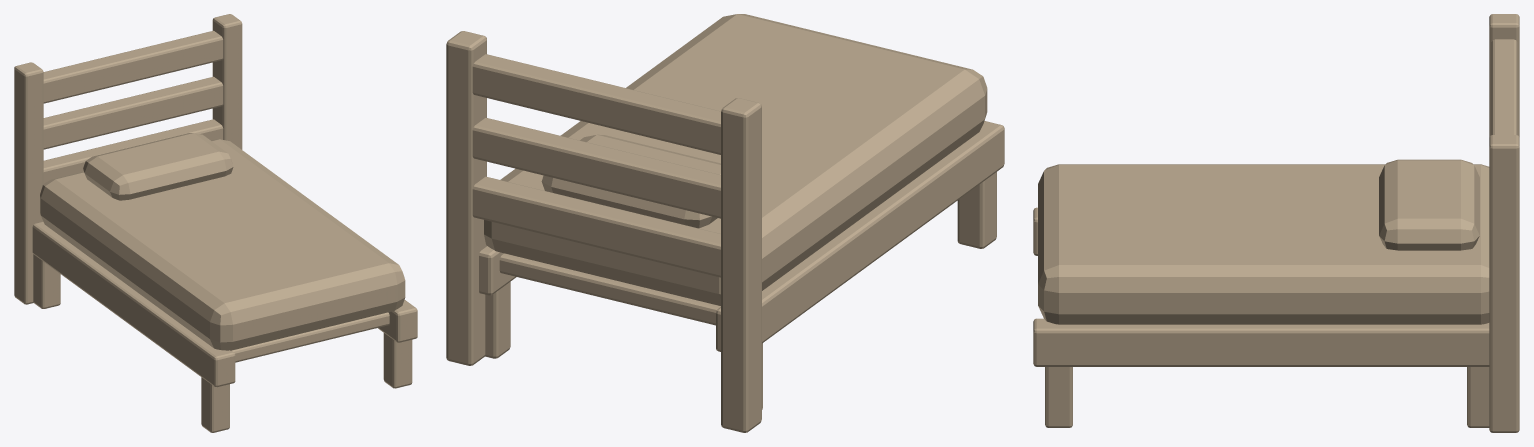
File: bed-0-lod0.glb
3 views of the same model, side by side, from view 1: azimuth 30°, elevation 25°; view 2: azimuth 150°, elevation 25°; view 3: azimuth 270°, elevation 25° (orthographic). The views are drawn at different scales.
Visible parts, largest first — view 1: Linen mattress, Bed rail, Linen pillow, Headboard post, Headboard.001, Headboard.002, Headboard post.001, Headboard, Bed slat.008, Bed leg.003, Bed leg.001, Bed leg (+1 smaller); view 2: Linen mattress, Headboard post, Bed rail, Headboard post.001, Headboard, Headboard.002, Headboard.001, Bed slat, Linen pillow, Bed leg.001, Bed leg.002, Bed rail.001; view 3: Linen mattress, Bed rail.001, Headboard post.001, Linen pillow, Headboard.002, Bed leg.003, Bed leg.002, Headboard post.
Part boxes in pixels (box(x1,y1,x2,y2)): Linen mattress: box(40, 139, 405, 350); Bed rail: box(32, 222, 235, 387); Linen pillow: box(83, 133, 233, 200); Headboard post: box(14, 62, 43, 304); Headboard.001: box(43, 76, 223, 149); Headboard.002: box(43, 30, 223, 103); Headboard post.001: box(212, 14, 242, 149); Headboard: box(43, 119, 223, 183); Bed slat.008: box(232, 312, 389, 362); Bed leg.003: box(383, 333, 412, 388); Bed leg.001: box(201, 377, 229, 432); Bed leg: box(33, 254, 60, 308); Linen mattress: box(484, 14, 987, 305); Headboard post: box(721, 98, 761, 432); Bed rail: box(716, 121, 1004, 351); Headboard post.001: box(446, 31, 486, 365); Headboard: box(472, 176, 720, 277); Headboard.002: box(472, 54, 720, 154); Headboard.001: box(472, 118, 720, 218); Bed slat: box(499, 253, 720, 325); Linen pillow: box(541, 134, 720, 228); Bed leg.001: box(957, 172, 996, 248); Bed leg.002: box(485, 282, 510, 358); Bed rail.001: box(479, 246, 516, 295); Linen mattress: box(1038, 164, 1489, 324); Bed rail.001: box(1033, 318, 1489, 366); Headboard post.001: box(1489, 135, 1519, 432); Linen pillow: box(1379, 159, 1479, 250); Headboard.002: box(1491, 39, 1517, 134); Bed leg.003: box(1045, 367, 1072, 427); Bed leg.002: box(1467, 367, 1489, 427); Headboard post: box(1489, 14, 1519, 137).
Size of the model in its own units: 1.34 by 1.36 by 2.07.
